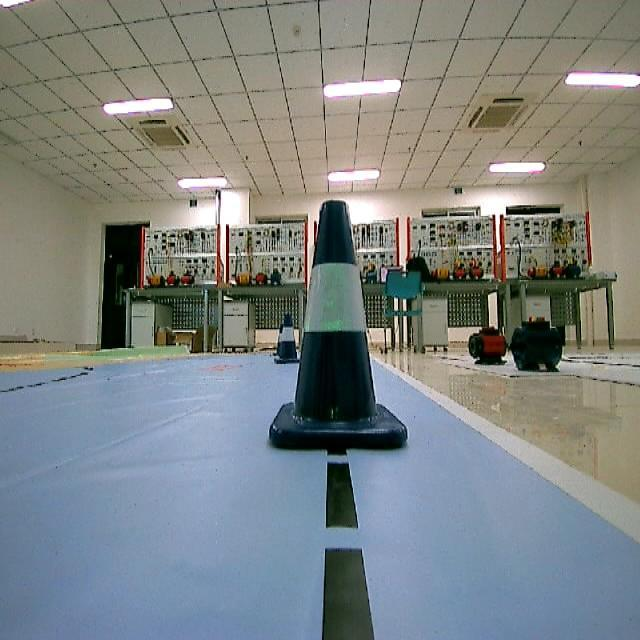obstacle: (265, 192, 413, 464), (272, 310, 304, 376)
